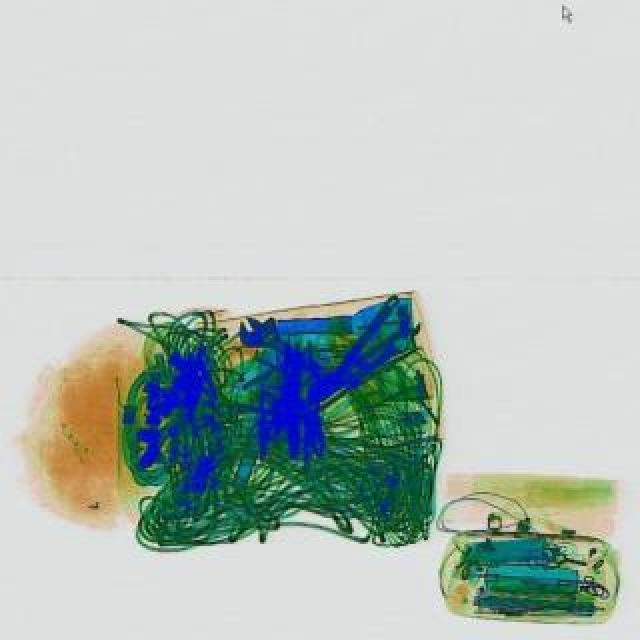scissors: (228, 302, 344, 392), (342, 308, 424, 376)
